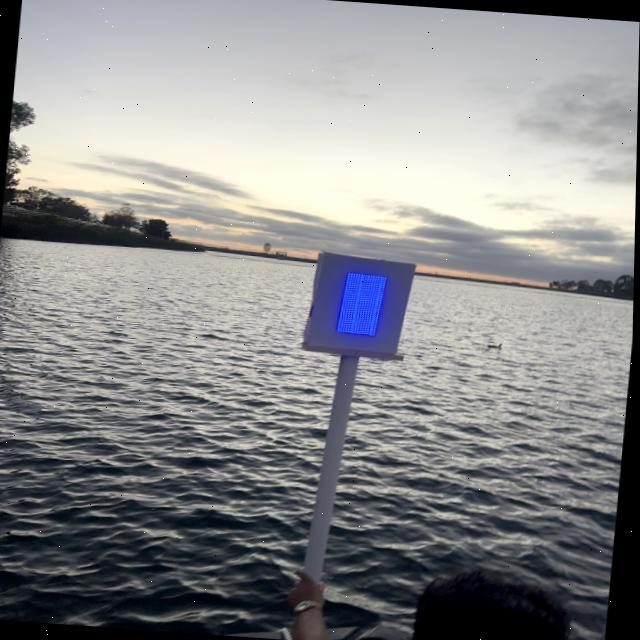led: (323, 252, 401, 352)
